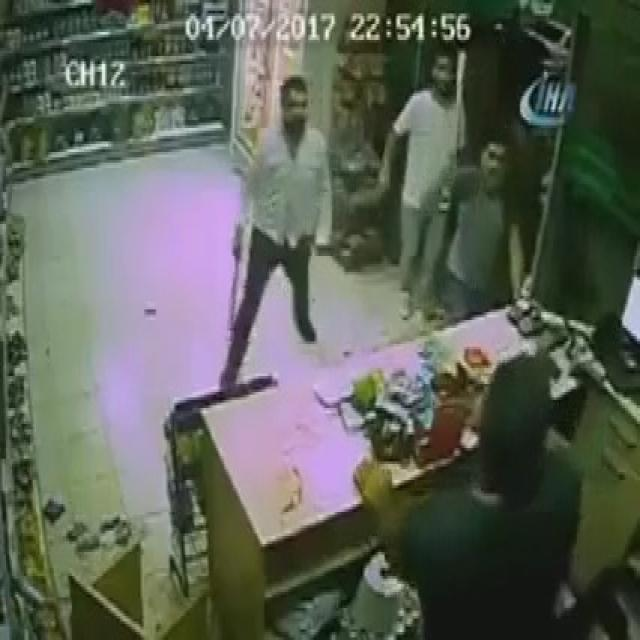fight: (224, 63, 333, 362)
